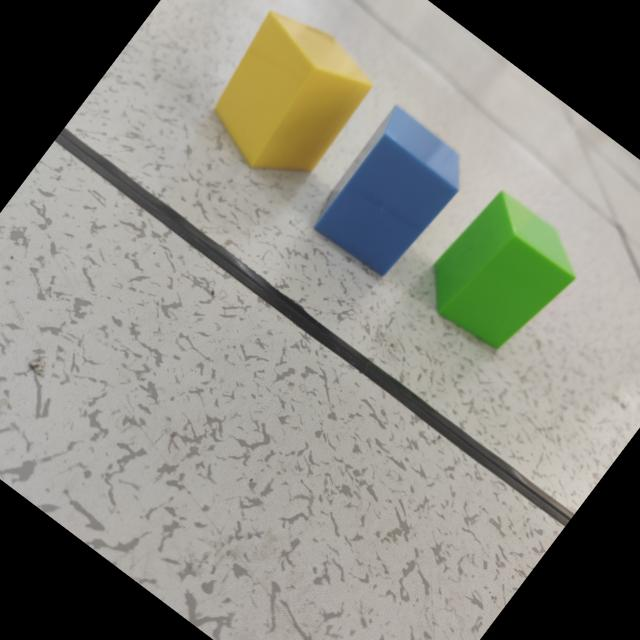blue: (311, 106, 460, 277)
green: (431, 190, 575, 352)
yellow: (212, 12, 371, 175)
